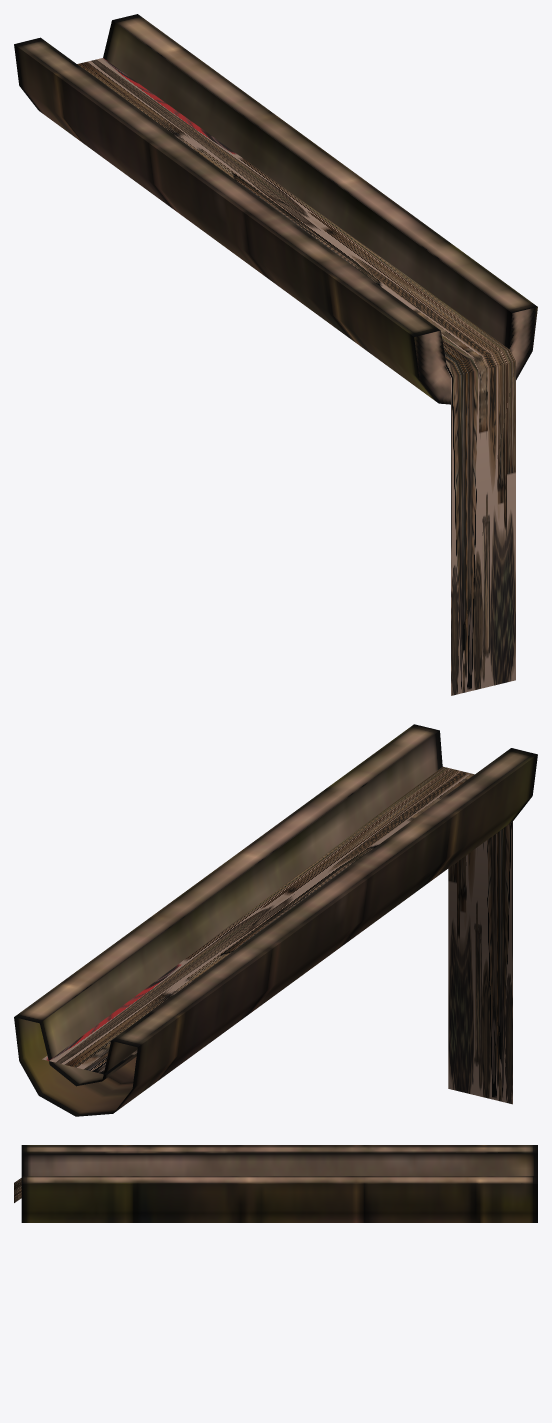
The model's file is PRP_BambooPile.FBX.
The picture shows the model from 3 angles, top to bottom: view 1: azimuth 30°, elevation 25°; view 2: azimuth 150°, elevation 25°; view 3: azimuth 270°, elevation 25°; orthographic projection. The views are drawn at different scales.
Parts seen in each view (by area): view 1: PRP_BambooPile; view 2: PRP_BambooPile; view 3: PRP_BambooPile.
Part boxes in pixels (box(x1,y1,x2,y2)): PRP_BambooPile: box(14, 14, 537, 695); PRP_BambooPile: box(14, 724, 537, 1116); PRP_BambooPile: box(14, 1145, 537, 1222).
Size of the model in its own units: 70.17 by 196 by 399.
